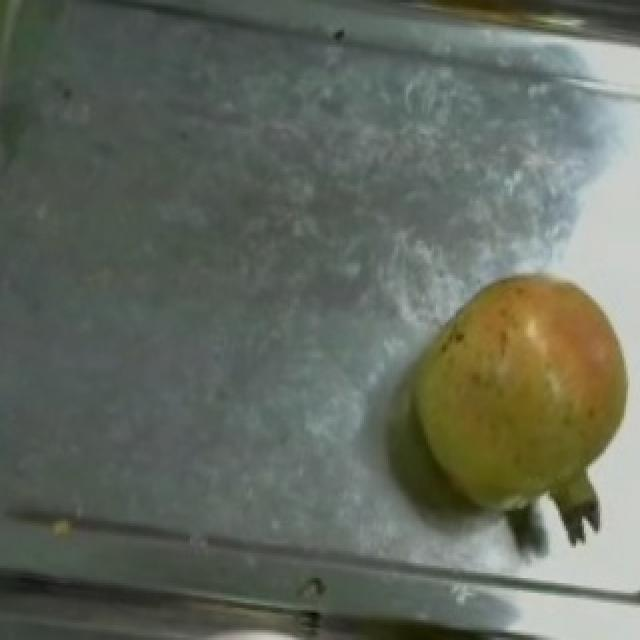fruit: (412, 253, 640, 466)
